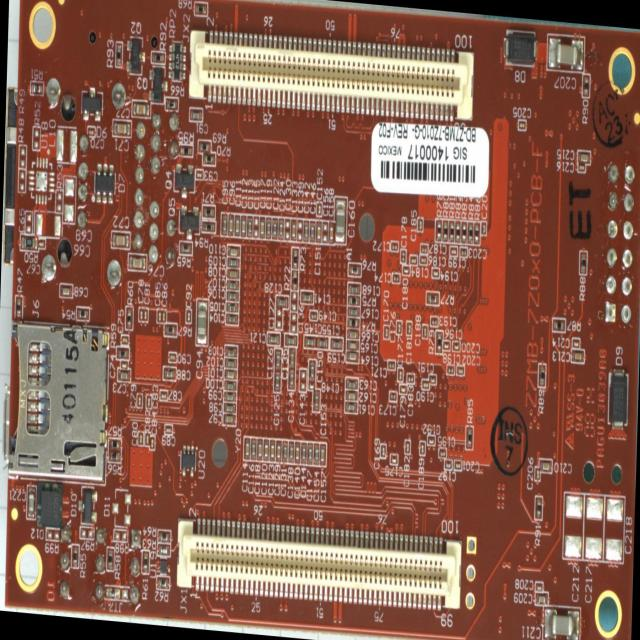Capacitor Jumper: (547, 37, 583, 71), (542, 607, 580, 639), (196, 300, 208, 344), (334, 197, 345, 243), (128, 256, 146, 270), (28, 488, 36, 518), (132, 101, 149, 115), (113, 121, 130, 135), (112, 233, 129, 247), (535, 593, 548, 604), (243, 438, 250, 458), (304, 337, 316, 348), (285, 334, 296, 346), (288, 348, 294, 369), (313, 390, 319, 411), (118, 369, 129, 380), (539, 460, 551, 470), (300, 443, 306, 463), (318, 445, 324, 465), (288, 442, 294, 462), (306, 444, 312, 464), (313, 444, 319, 464), (250, 438, 256, 458), (256, 439, 262, 459), (275, 442, 281, 462), (282, 442, 288, 462), (294, 443, 300, 463), (263, 441, 269, 461), (268, 442, 274, 462), (309, 222, 315, 242), (290, 220, 296, 240), (328, 224, 334, 244), (259, 217, 265, 237), (221, 214, 227, 234), (234, 216, 240, 236), (240, 216, 246, 236), (227, 258, 239, 268), (226, 292, 238, 302), (276, 297, 288, 307), (347, 307, 359, 317), (571, 351, 583, 361), (346, 340, 358, 350), (330, 339, 342, 349), (267, 334, 279, 344), (346, 352, 358, 362), (275, 350, 281, 370), (288, 368, 294, 388), (224, 370, 236, 380), (345, 390, 357, 400), (224, 380, 236, 390), (224, 392, 236, 402), (223, 403, 235, 413), (223, 414, 235, 424), (578, 153, 589, 163), (228, 246, 239, 256), (227, 268, 238, 278), (348, 284, 359, 294), (227, 281, 238, 291), (60, 286, 71, 296), (226, 302, 237, 312), (226, 314, 237, 324), (347, 329, 358, 339), (316, 338, 327, 348), (225, 347, 236, 357), (225, 358, 236, 368), (346, 380, 357, 390), (164, 369, 175, 379), (345, 402, 356, 412), (301, 293, 313, 302), (278, 218, 283, 238), (303, 221, 308, 241), (316, 222, 321, 242), (247, 216, 252, 236), (266, 218, 271, 238), (272, 218, 277, 238), (228, 215, 233, 235), (309, 361, 314, 381), (274, 370, 279, 390), (190, 110, 201, 119), (446, 366, 454, 374), (389, 392, 396, 401), (454, 461, 461, 469), (399, 385, 406, 393), (406, 323, 411, 334), (383, 327, 388, 338), (422, 327, 427, 337), (572, 340, 579, 347), (407, 375, 414, 382), (420, 443, 424, 455), (439, 449, 445, 457), (165, 426, 171, 434), (381, 445, 385, 457), (460, 248, 466, 256), (391, 243, 397, 251), (432, 270, 438, 278), (310, 312, 316, 320), (453, 342, 459, 350), (169, 353, 175, 361), (160, 392, 166, 400), (428, 436, 434, 444), (535, 468, 539, 479), (138, 433, 142, 444), (145, 434, 149, 445), (317, 203, 321, 214), (418, 219, 422, 230), (139, 309, 143, 320), (398, 369, 402, 380), (536, 584, 542, 591), (38, 240, 44, 247), (442, 342, 449, 348), (388, 362, 394, 369), (429, 376, 435, 383), (308, 383, 314, 390), (406, 442, 410, 452), (391, 456, 396, 464), (150, 438, 154, 448), (519, 121, 524, 129), (482, 224, 486, 234), (421, 245, 426, 253), (397, 323, 401, 333), (145, 310, 149, 320), (161, 312, 165, 322), (158, 311, 162, 321), (458, 366, 463, 374), (138, 396, 142, 406), (146, 396, 150, 406), (578, 164, 584, 170), (450, 248, 456, 254), (393, 275, 399, 281), (431, 318, 437, 324), (422, 381, 428, 387), (421, 256, 426, 263), (121, 362, 126, 369), (187, 311, 190, 322), (445, 462, 450, 468), (88, 129, 93, 135), (196, 172, 201, 178), (411, 258, 416, 264), (403, 268, 408, 274), (122, 337, 127, 343), (402, 251, 404, 261)
Connector: (176, 512, 461, 616), (187, 25, 474, 127), (6, 317, 110, 487), (463, 534, 478, 612)
Diode: (606, 368, 630, 430), (502, 28, 538, 69), (93, 162, 114, 204), (80, 86, 103, 123), (78, 485, 98, 526), (40, 489, 61, 527)
IC: (179, 444, 196, 476), (159, 557, 169, 575)
Jumper: (106, 587, 128, 599)
Pads: (27, 156, 55, 206), (563, 494, 583, 560), (604, 497, 624, 562), (583, 496, 603, 561), (112, 488, 132, 530), (55, 128, 78, 162), (34, 212, 62, 236), (62, 177, 74, 223), (299, 370, 306, 390), (322, 221, 328, 243), (80, 528, 93, 538), (46, 530, 59, 540), (19, 146, 25, 167), (114, 530, 126, 540), (33, 128, 39, 148), (19, 170, 25, 190), (284, 220, 290, 240), (276, 308, 282, 328), (290, 313, 296, 333), (297, 220, 302, 241), (56, 192, 61, 212), (26, 212, 31, 232), (291, 292, 296, 312), (254, 216, 258, 236)
Pins: (603, 160, 636, 326), (130, 109, 162, 264), (76, 134, 89, 231), (58, 523, 72, 601), (128, 527, 141, 605), (94, 526, 106, 604), (164, 217, 177, 266), (45, 74, 62, 108), (167, 111, 179, 159), (40, 251, 57, 283), (105, 257, 122, 289), (110, 81, 126, 109)
Resistor: (20, 236, 38, 250), (195, 3, 207, 16), (157, 576, 168, 590), (157, 544, 170, 555), (125, 308, 132, 328), (15, 296, 21, 319), (72, 546, 78, 568), (203, 206, 214, 218), (426, 294, 438, 305), (179, 145, 192, 155), (582, 75, 588, 96), (473, 223, 479, 244), (31, 82, 42, 93), (203, 153, 214, 164), (107, 549, 113, 569), (142, 553, 148, 573), (152, 52, 164, 62), (165, 98, 177, 108), (198, 142, 210, 152), (467, 222, 473, 242), (448, 222, 454, 242), (442, 221, 448, 241), (580, 252, 586, 272), (179, 243, 191, 253), (292, 248, 298, 268), (552, 320, 564, 330), (436, 332, 442, 352), (164, 324, 176, 334), (466, 428, 472, 448), (116, 43, 121, 66), (291, 270, 297, 289), (109, 440, 120, 450), (109, 451, 120, 461), (158, 532, 169, 542), (349, 265, 360, 275), (348, 295, 359, 305), (347, 318, 358, 328), (117, 348, 128, 358), (76, 309, 88, 318), (461, 221, 466, 242), (455, 221, 460, 242), (202, 223, 215, 231), (436, 220, 441, 240), (539, 366, 544, 386), (536, 499, 541, 518)
Resistor Network: (168, 40, 186, 83)
Transistor: (177, 204, 201, 241), (126, 35, 146, 76), (148, 65, 168, 106), (173, 162, 194, 198)
